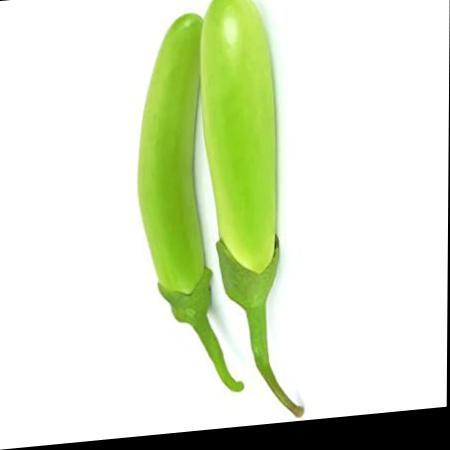eggplant: (122, 0, 352, 405)
